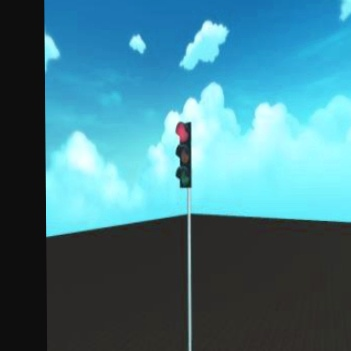sinalRed: (176, 120, 194, 192)
